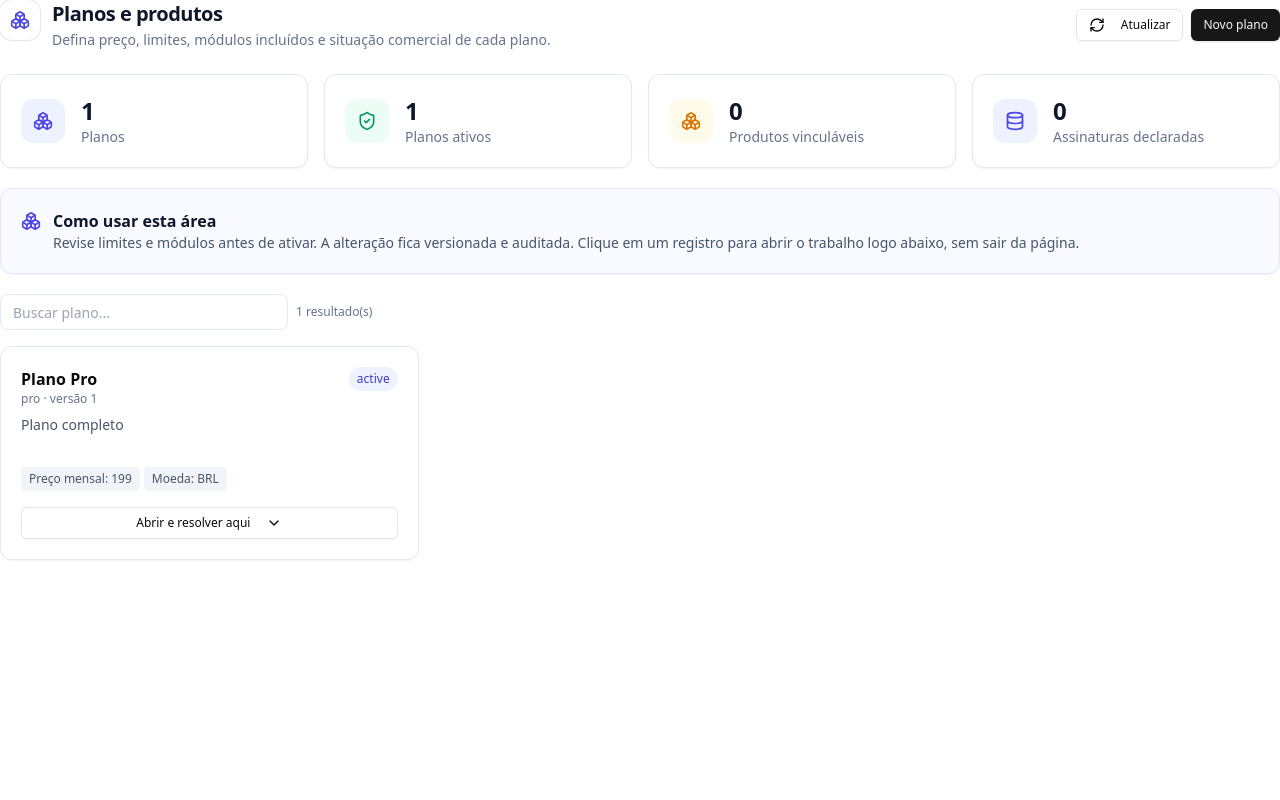
Test: capability centers › opens the selected item in an inline workspace instead of navigating away
Step 1. Click the button with aria-label "Abrir Plano Pro" → (209, 523), box [21, 507, 398, 539]
(page scrolled)
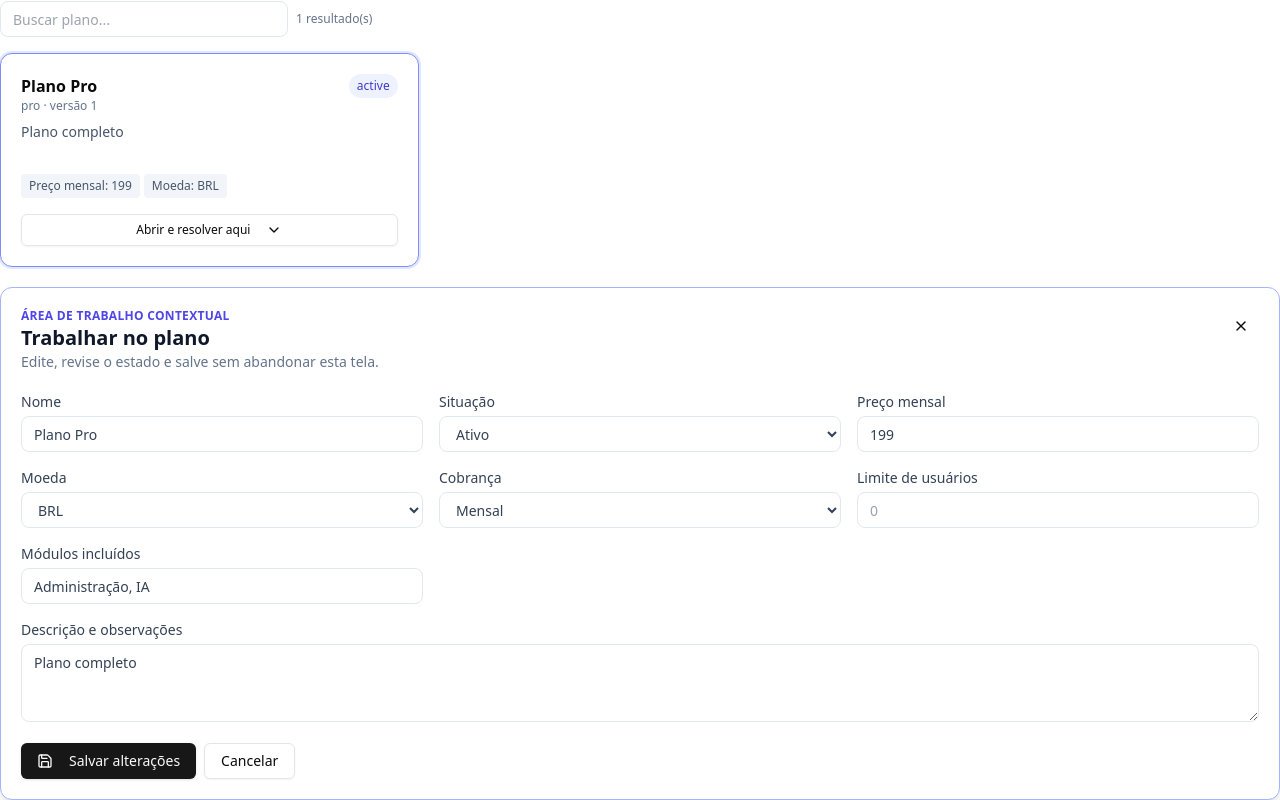
Check: the heading "Trabalhar no plano" is shown, box [21, 324, 210, 351]
Check: the number field labelled "Preço mensal" holds "199", box [857, 416, 1259, 452]
Check: the dropdown labelled "Moeda" shows "BRL", box [21, 492, 423, 528]
